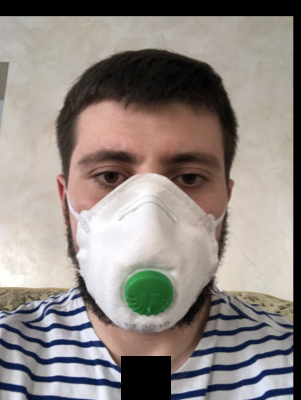with_mask: (71, 128, 224, 334)
